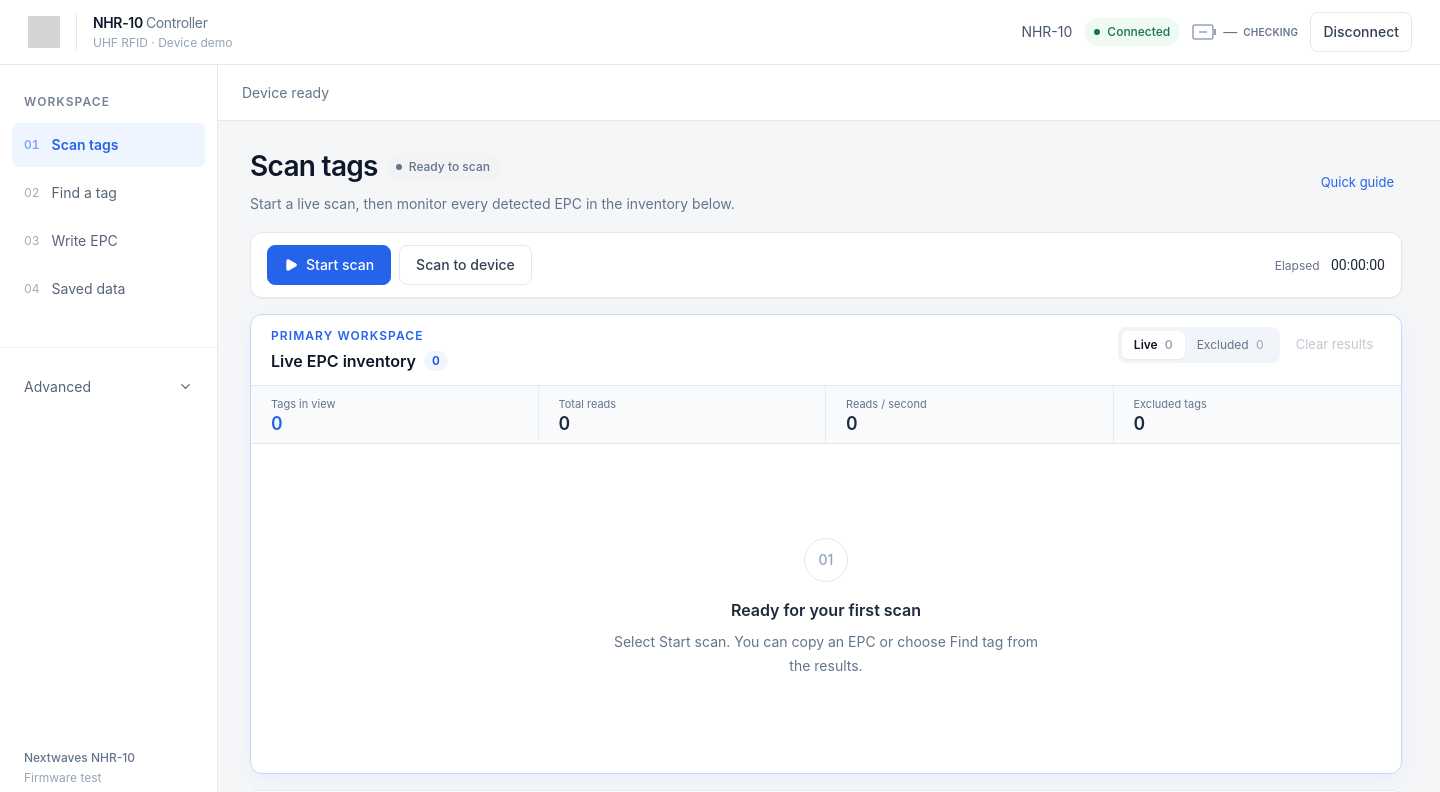
Scenario: preserves read-only actual Region without selecting US or sending a write: {"cmd":"GF","status":"ok","val":"CUSTOM","mode":"subset","band":27,"min_ch":2,"max_ch
Step 1. Click the button "Advanced" → (108, 386), box [12,364,205,409]
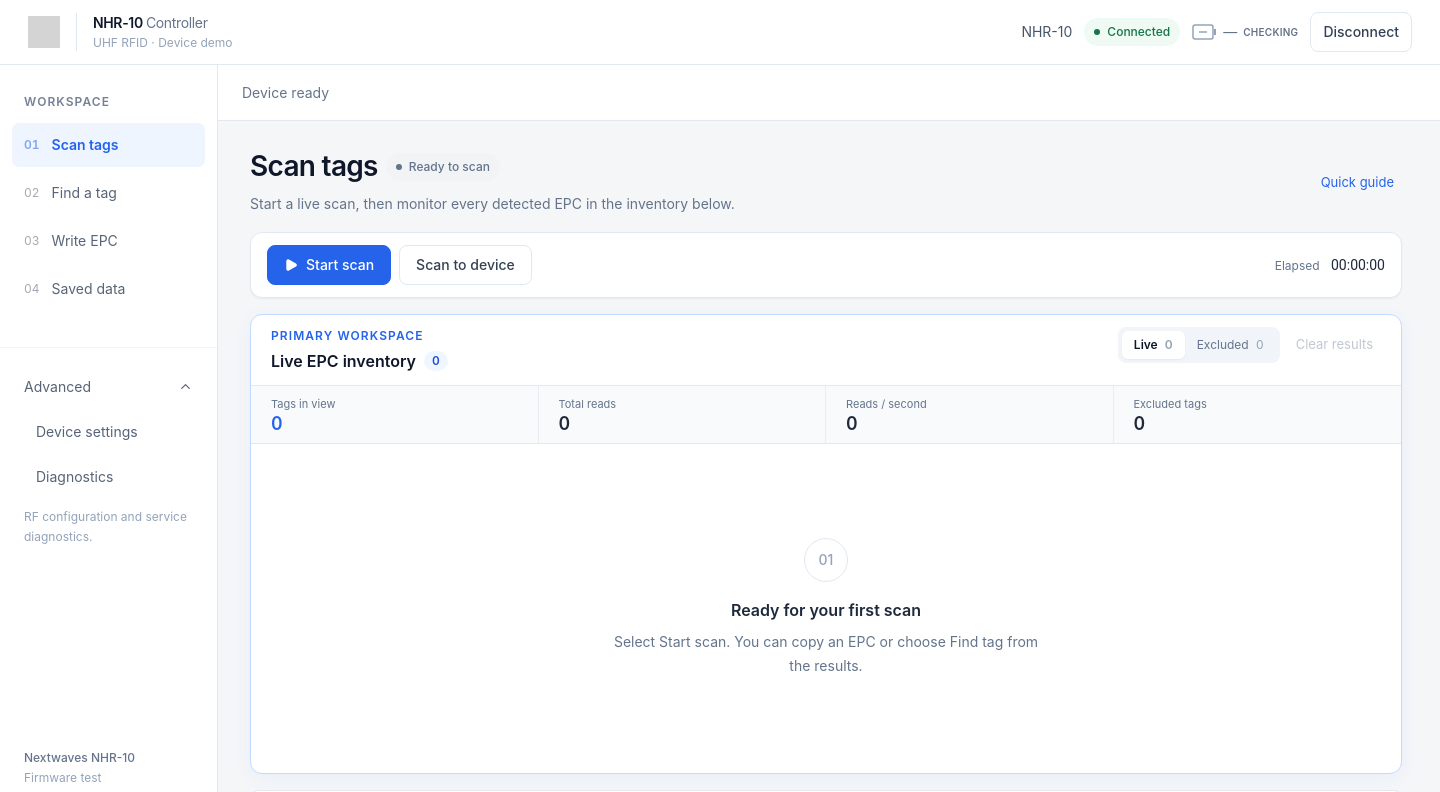
Step 2. Click the button "Device settings" → (108, 432), box [12,409,205,454]
(page scrolled)
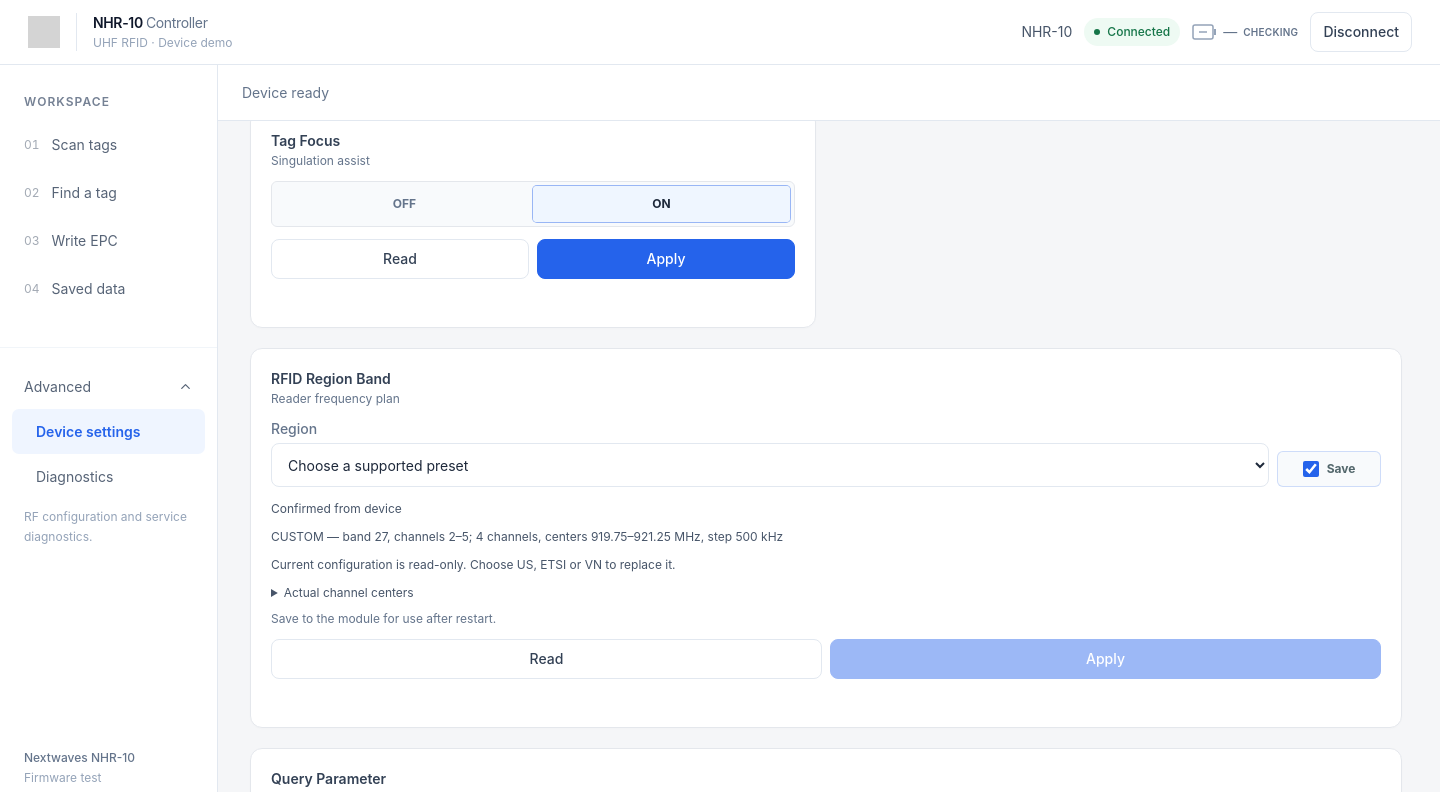
Check: the dropdown with id "setting-region" shows "Choose a supported preset"
Check: the element named "RFID Region Band" shows "read-only", box [271,557,676,572]
Step 3. Select "ETSI (865-868 MHz)" in the dropdown with id "setting-region" → (770, 465), box [271,443,1269,487]
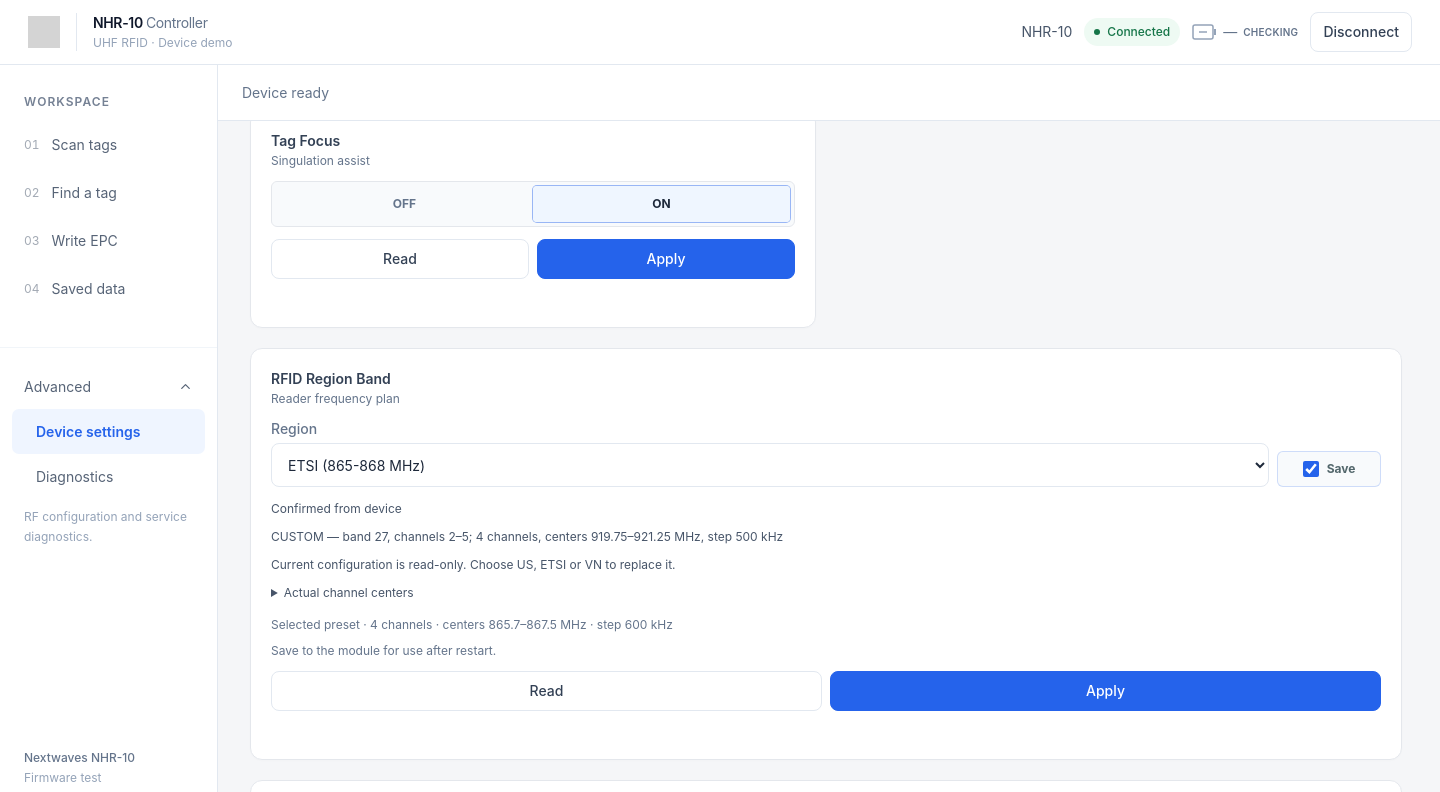
Check: the button "Apply" below "MHz · step" is enabled, box [830,671,1381,711]
